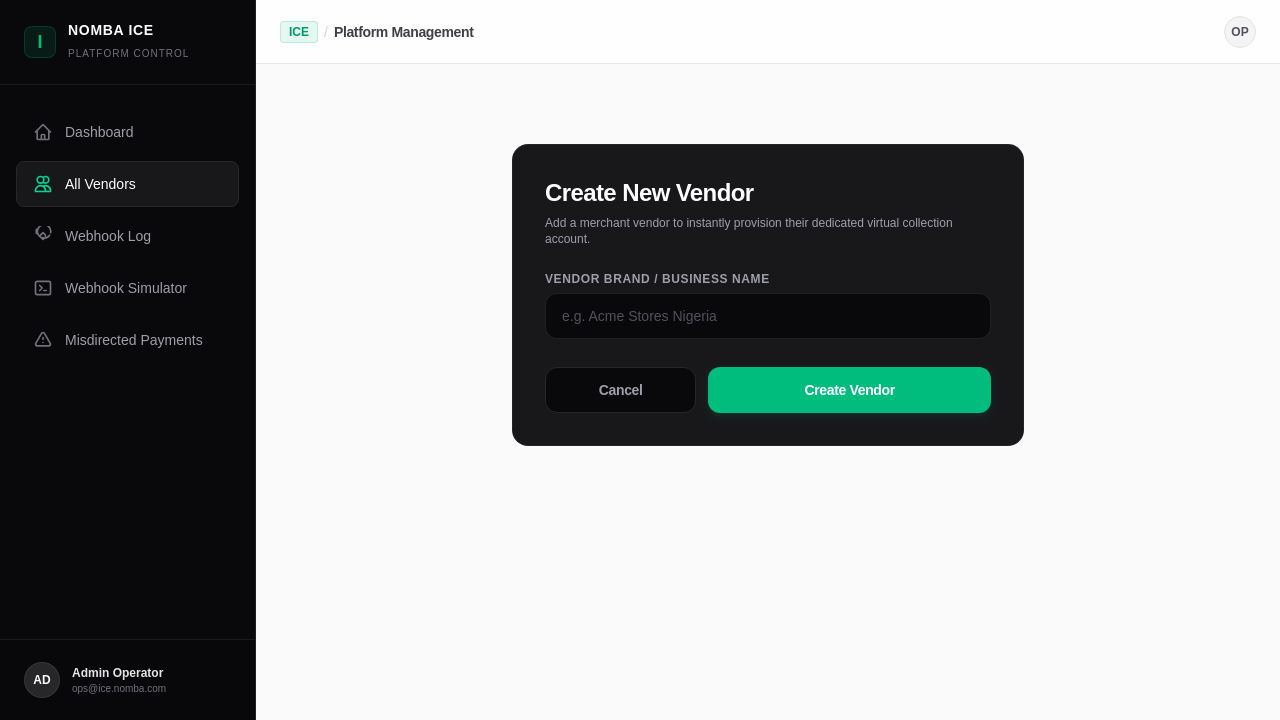
NewVendor Page › shows error message on API failure
In the field with placeholder "e.g. Acme Stores Nigeria": (768,316) [545,293,991,339], type "Acme Stores"
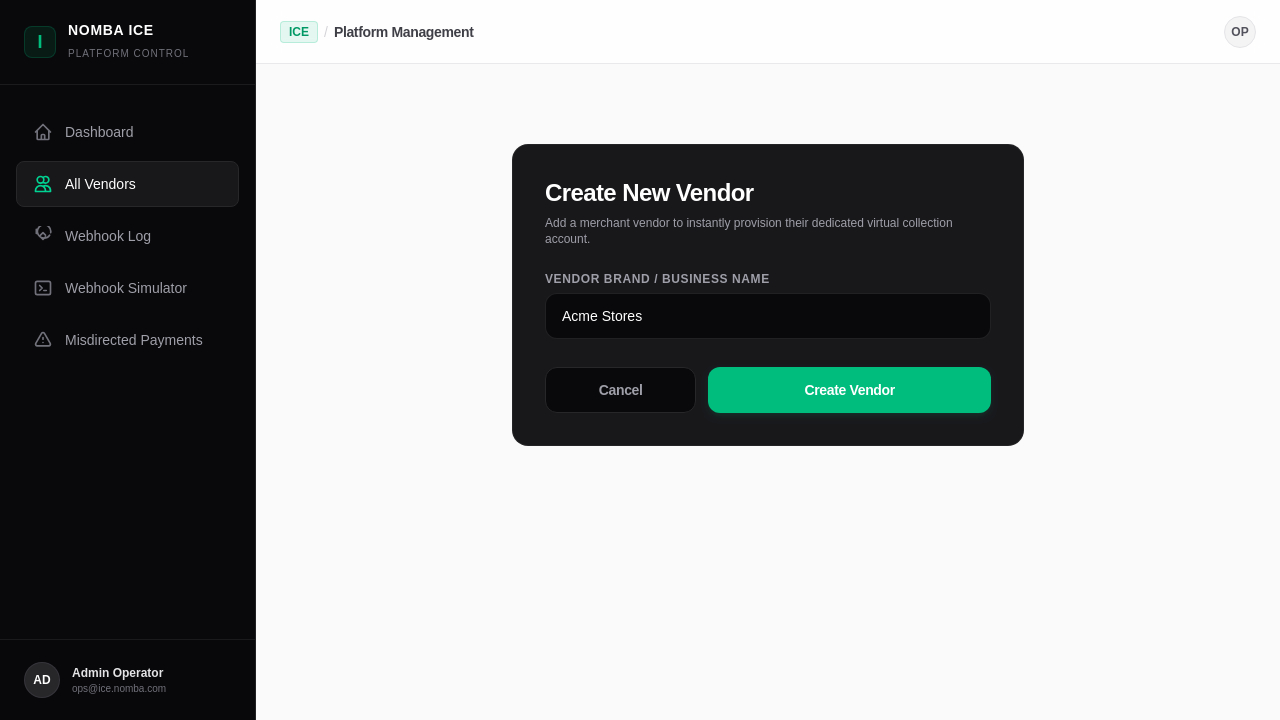
Click the button "Create Vendor": (850,390) [708,367,991,413]
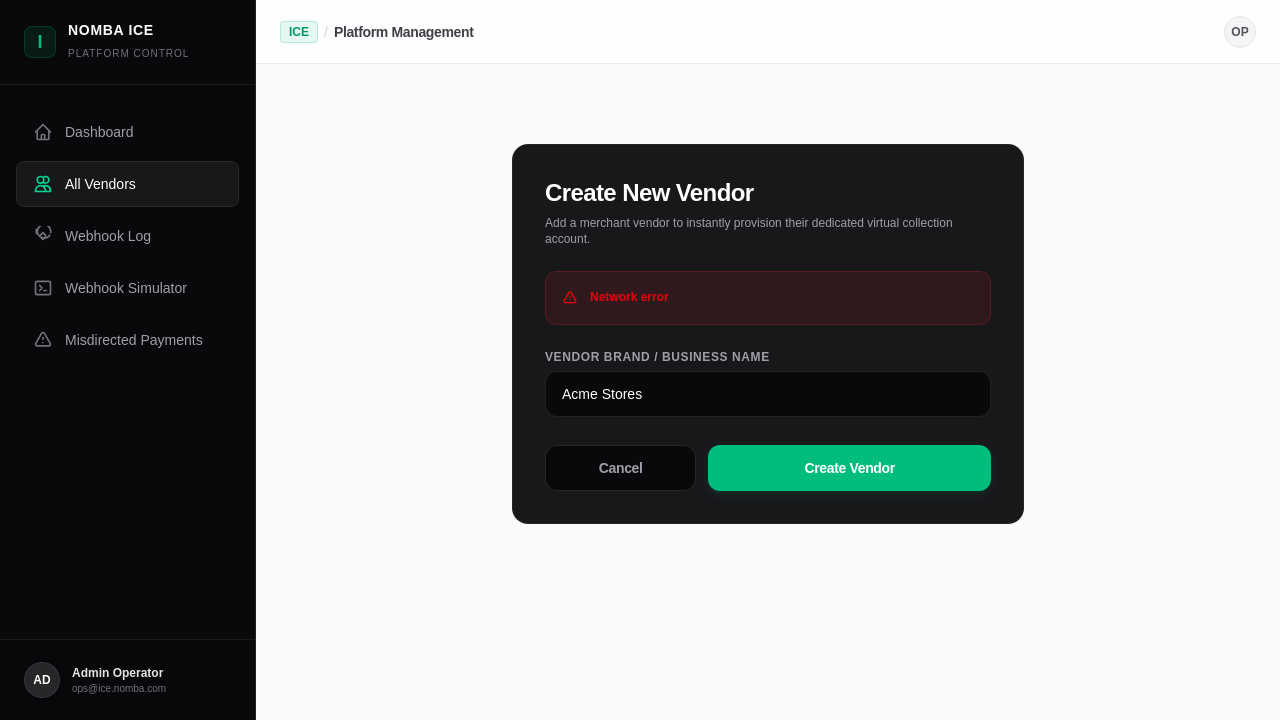
Result: the text "Network error" is shown at [590,288,669,308]
